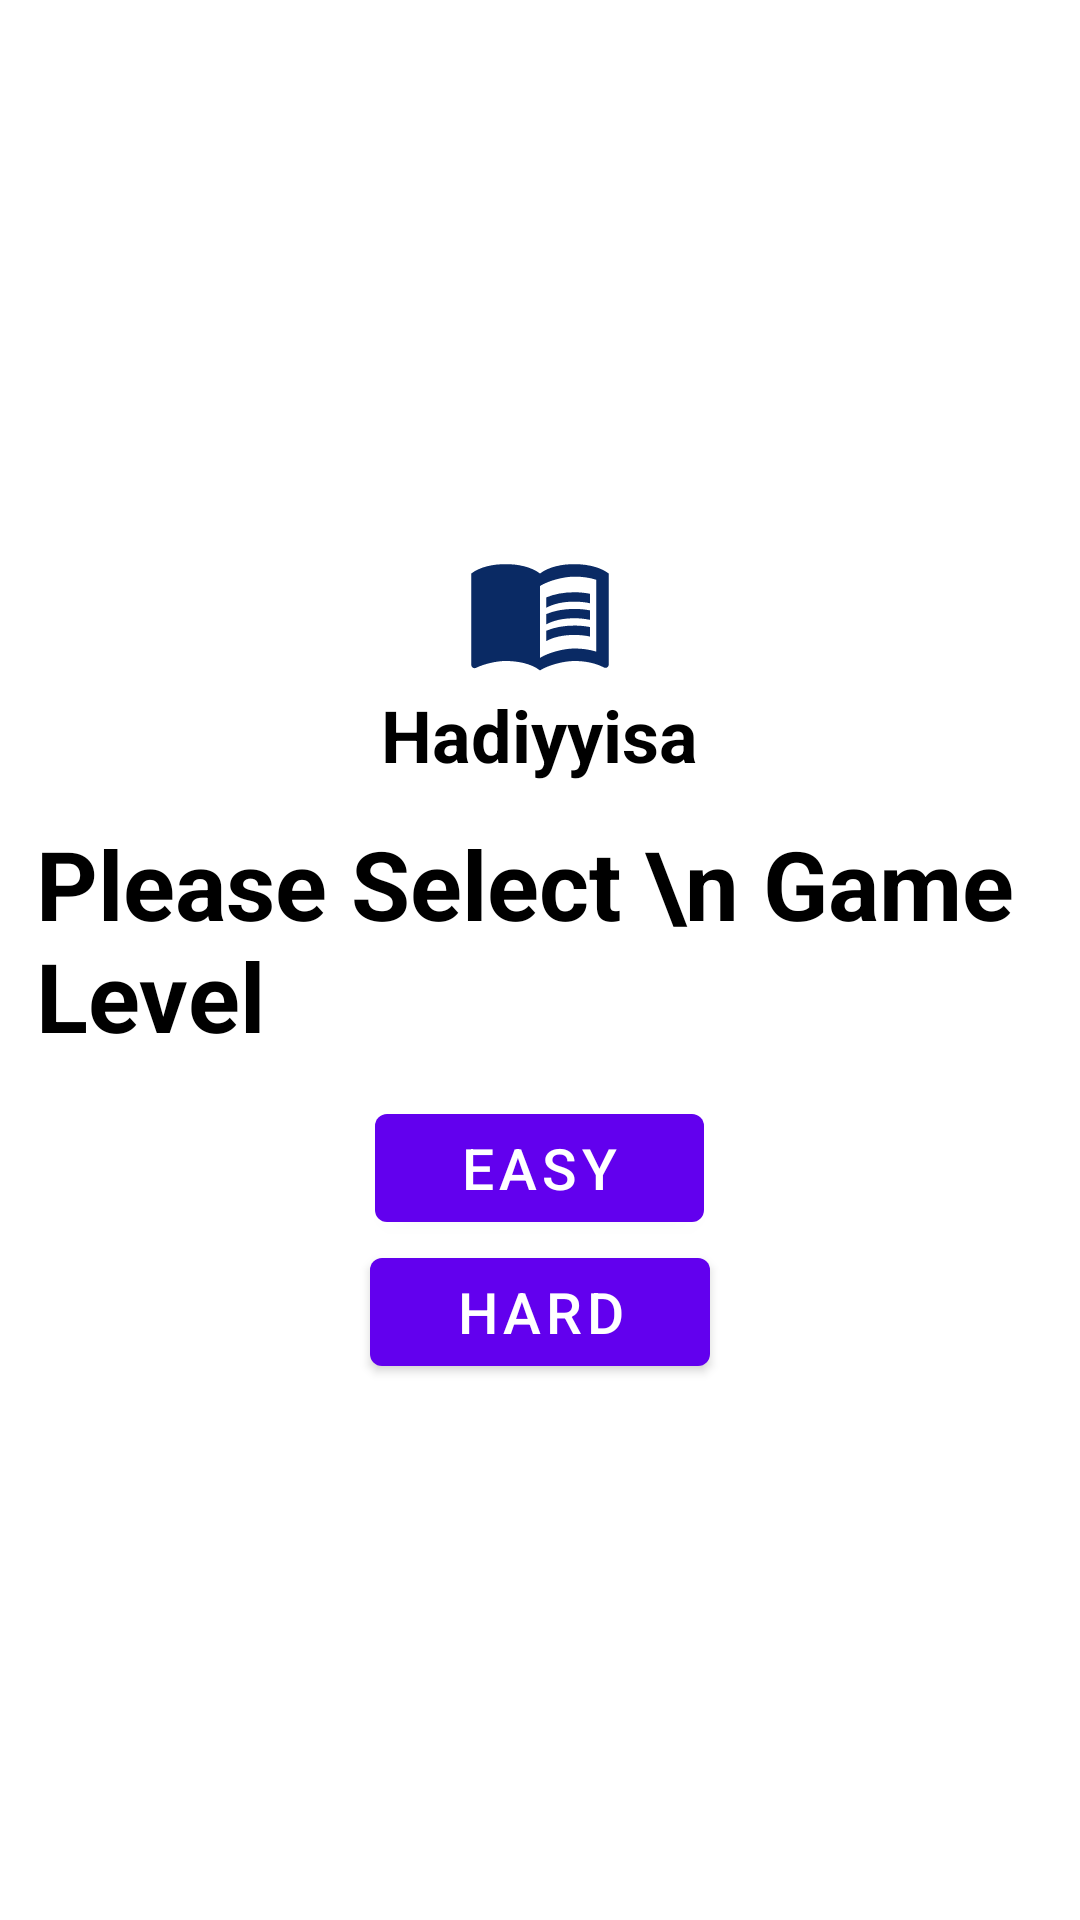

Named icons in this screenshot (1080px x 1920px) and their centers, point (x, y):
book: point (540, 617)
